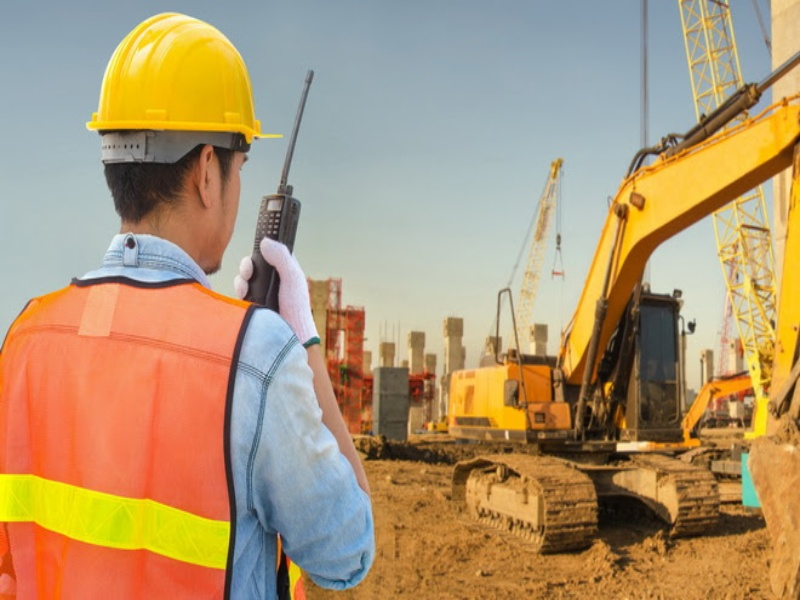helm proyek: (85, 5, 278, 275)
